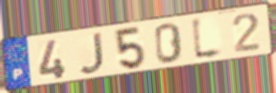0: (154, 21, 184, 66)
2: (231, 12, 261, 54)
4: (37, 37, 68, 81)
5: (111, 24, 148, 71)
J: (77, 30, 106, 76)
L: (190, 15, 227, 63)
